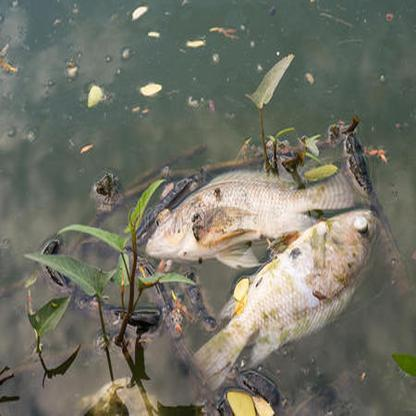deceased fish: (189, 208, 375, 385), (142, 164, 350, 255)
